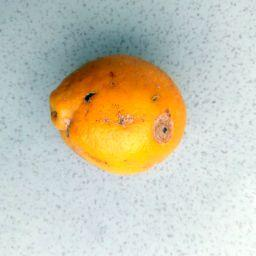Unripe: (50, 57, 186, 176)
